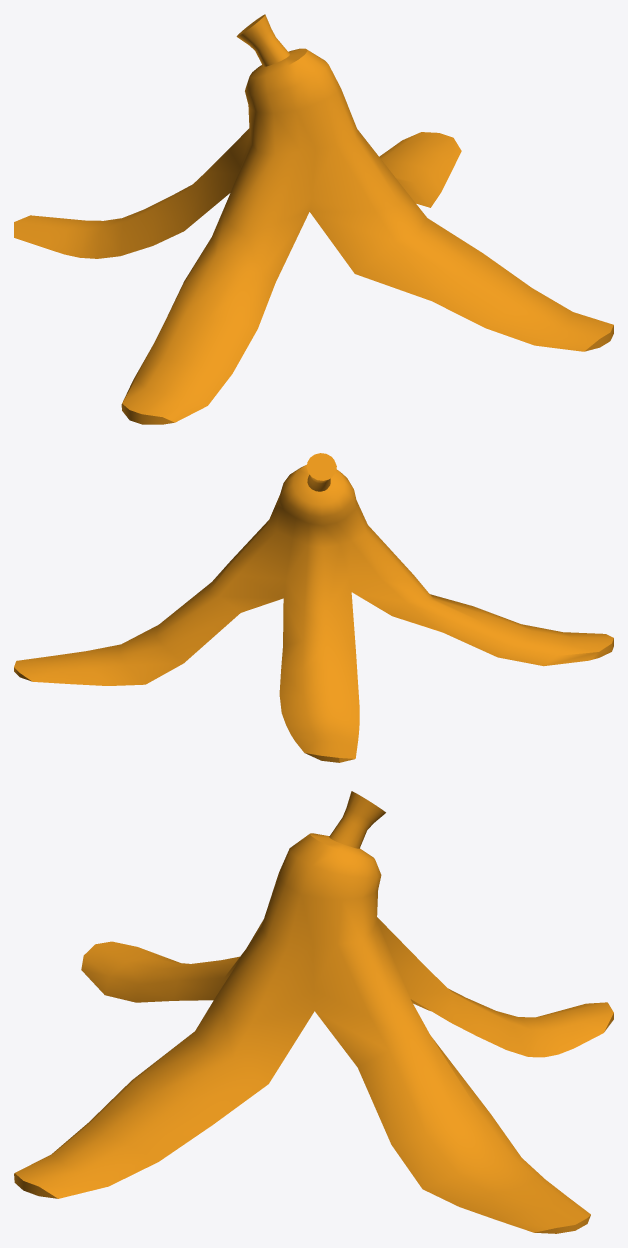
Rendered from Banana_03.fbx.
The picture shows the model from 3 angles, top to bottom: view 1: azimuth 30°, elevation 25°; view 2: azimuth 150°, elevation 25°; view 3: azimuth 270°, elevation 25°; orthographic projection. The views are drawn at different scales.
Visible parts, largest first — view 1: Banana_03; view 2: Banana_03; view 3: Banana_03.
Part boxes in pixels (box(x1,y1,x2,y2)): Banana_03: box(14, 14, 613, 424); Banana_03: box(14, 453, 613, 762); Banana_03: box(14, 791, 613, 1233).
Bounding box in the file's own units: 38.35 × 18.49 × 34.28.
